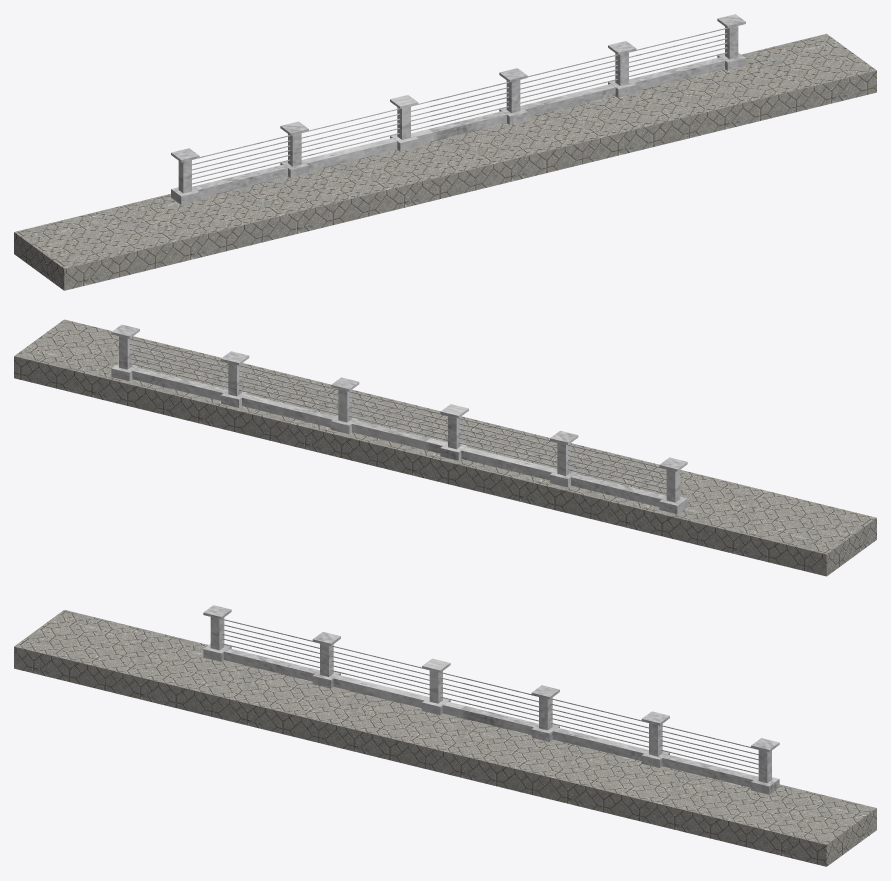
Rendered from Raophai.fbx.
3 renders of one model, top to bottom at view 1: azimuth 30°, elevation 25°; view 2: azimuth 150°, elevation 25°; view 3: azimuth 330°, elevation 25°, orthographic.
Visible parts, largest first — view 1: Group1; view 2: Group1; view 3: Group1.
Part boxes in pixels (x1,y1,x2,y2): Group1: [14, 14, 876, 290]; Group1: [14, 319, 876, 576]; Group1: [14, 605, 876, 866].
Size of the model in its own units: 33923 by 2670 by 3634.
